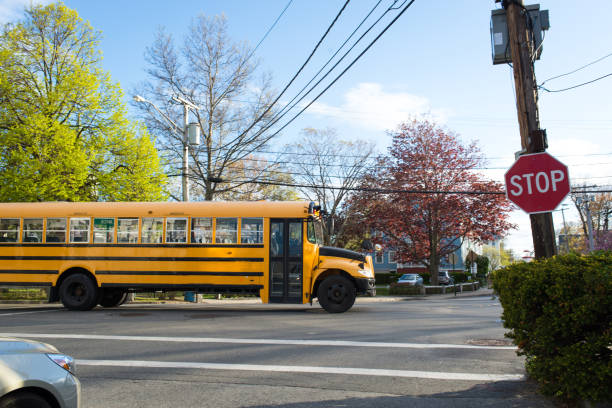StopSign: (503, 151, 571, 214)
